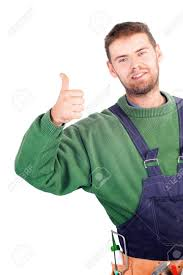thumbs_up: (13, 63, 88, 156)
